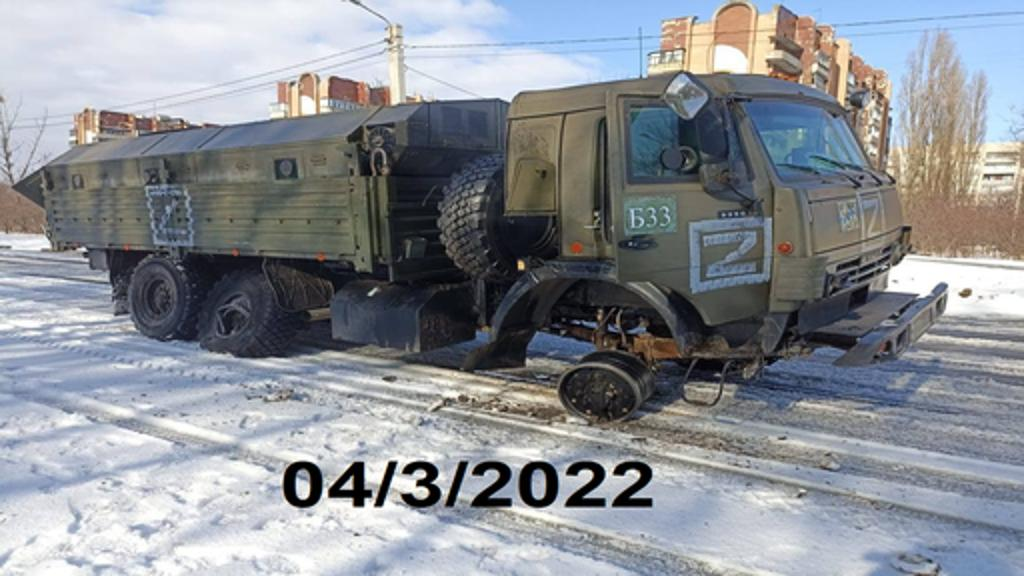TRUCK: (38, 56, 956, 428)
